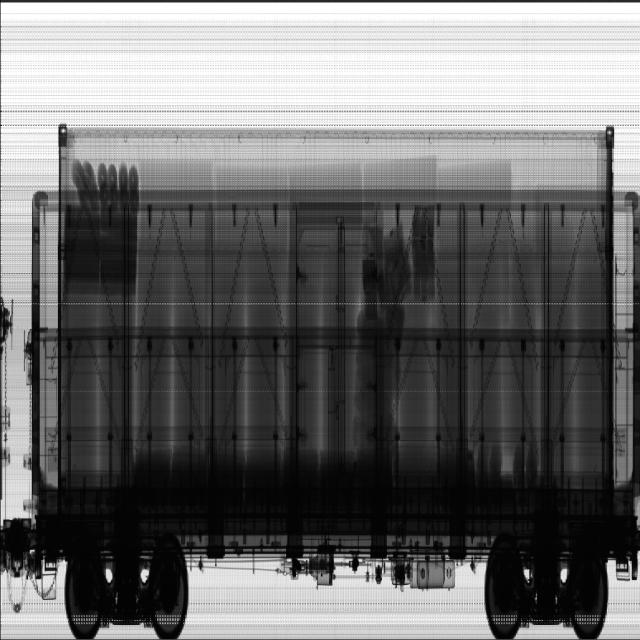clothes: (133, 206, 436, 486)
fabrics: (62, 159, 140, 292)
